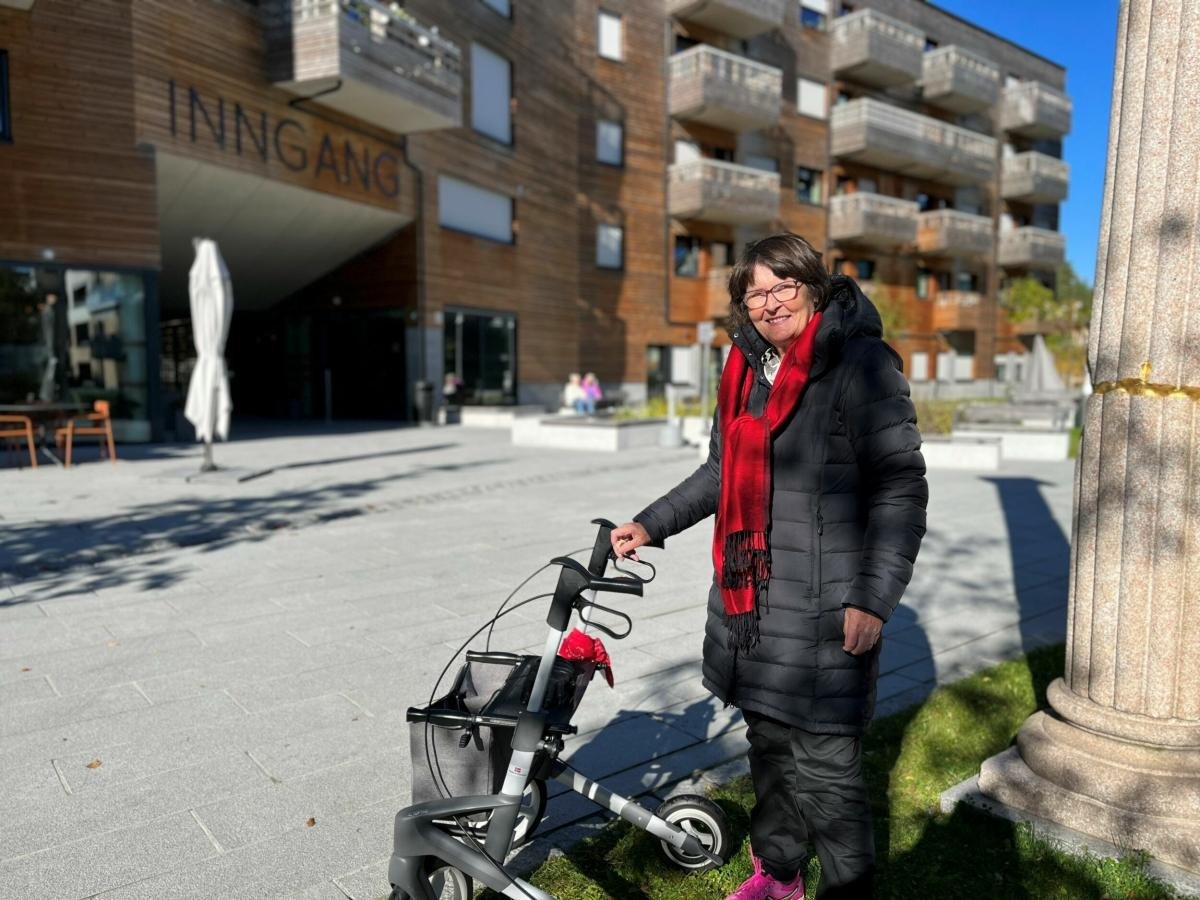walking_frame: (386, 234, 929, 900)
